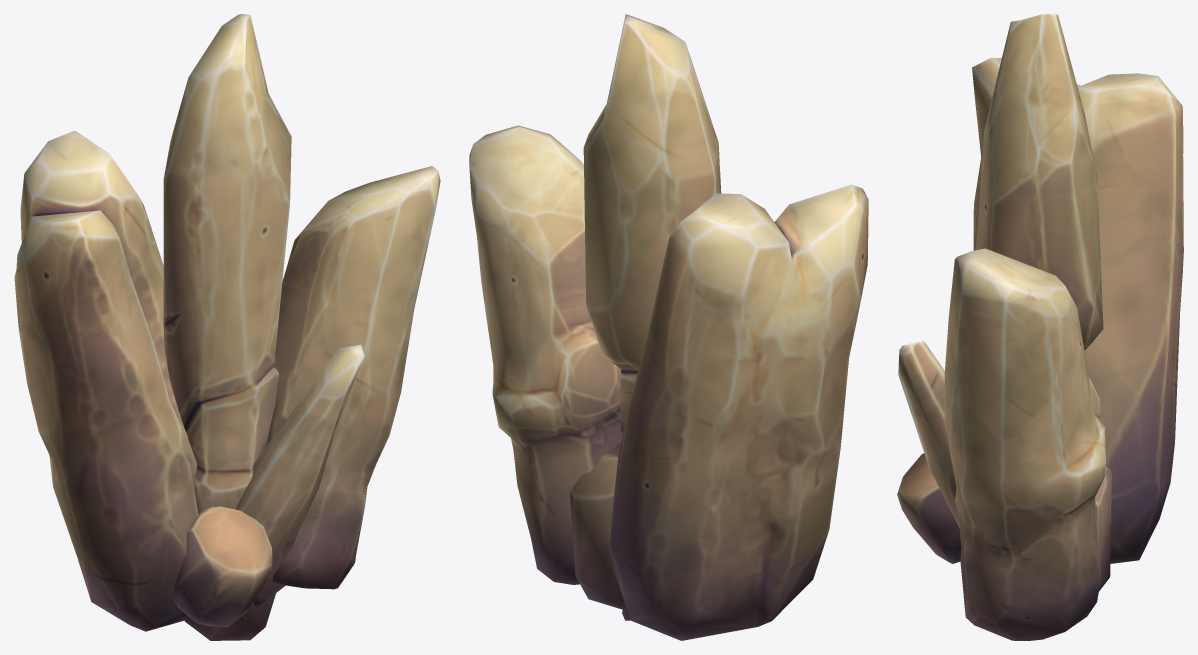
Rendered from SM_Gem_Moonstone_009.fbx.
The picture shows the model from 3 angles, left to right: view 1: azimuth 30°, elevation 25°; view 2: azimuth 150°, elevation 25°; view 3: azimuth 270°, elevation 25°; orthographic projection. The views are drawn at different scales.
Parts seen in each view (by area): view 1: SM_Gem_Moonstone_009; view 2: SM_Gem_Moonstone_009; view 3: SM_Gem_Moonstone_009.
Part boxes in pixels (x1,y1,x2,y2): SM_Gem_Moonstone_009: (14, 14, 440, 640); SM_Gem_Moonstone_009: (469, 14, 868, 640); SM_Gem_Moonstone_009: (897, 14, 1183, 640).
Bounding box in the file's own units: 65.69 × 95.57 × 39.53.
